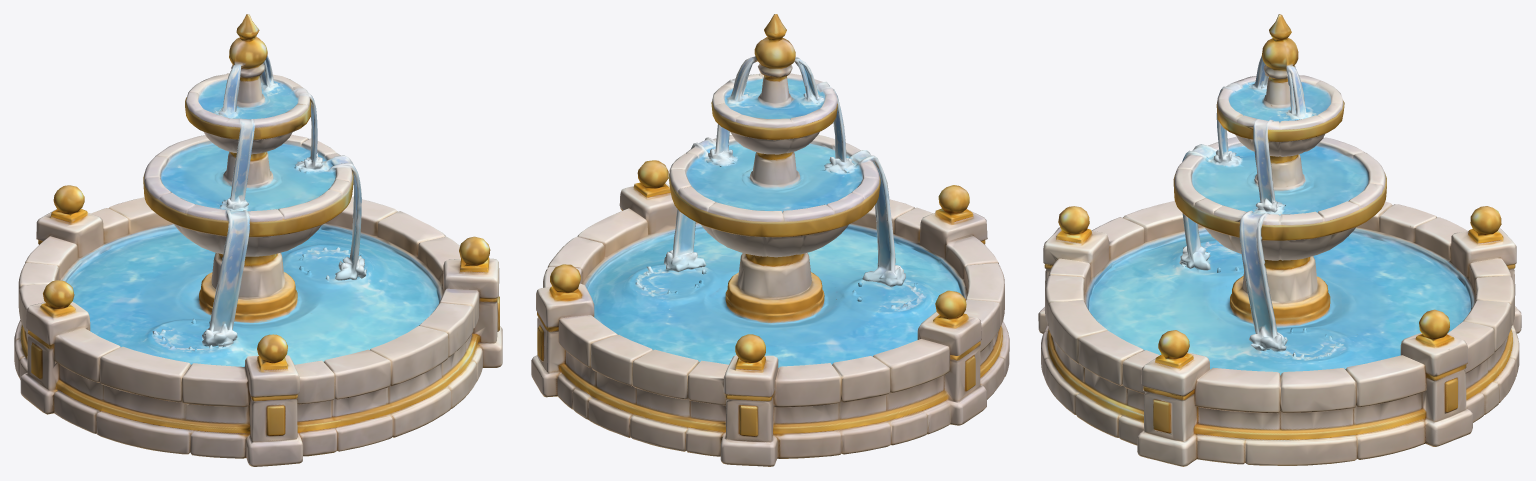
File: Halo_Fountain_HD_plain.glb
3 renders of one model, left to right at view 1: azimuth 30°, elevation 25°; view 2: azimuth 150°, elevation 25°; view 3: azimuth 270°, elevation 25°, orthographic.
Visible parts, largest first — view 1: tripo_node_2ff892cc-425d-43f5-8ccd-c081331610f3; view 2: tripo_node_2ff892cc-425d-43f5-8ccd-c081331610f3; view 3: tripo_node_2ff892cc-425d-43f5-8ccd-c081331610f3.
Boxes of the visible parts, bbox=[...] form: tripo_node_2ff892cc-425d-43f5-8ccd-c081331610f3: bbox=[14, 14, 502, 466]; tripo_node_2ff892cc-425d-43f5-8ccd-c081331610f3: bbox=[531, 14, 1009, 466]; tripo_node_2ff892cc-425d-43f5-8ccd-c081331610f3: bbox=[1038, 14, 1521, 466].
Bounding box in the file's own units: 0.9799 × 0.7873 × 0.9795.
Materials: 1 (1 with a texture image).
